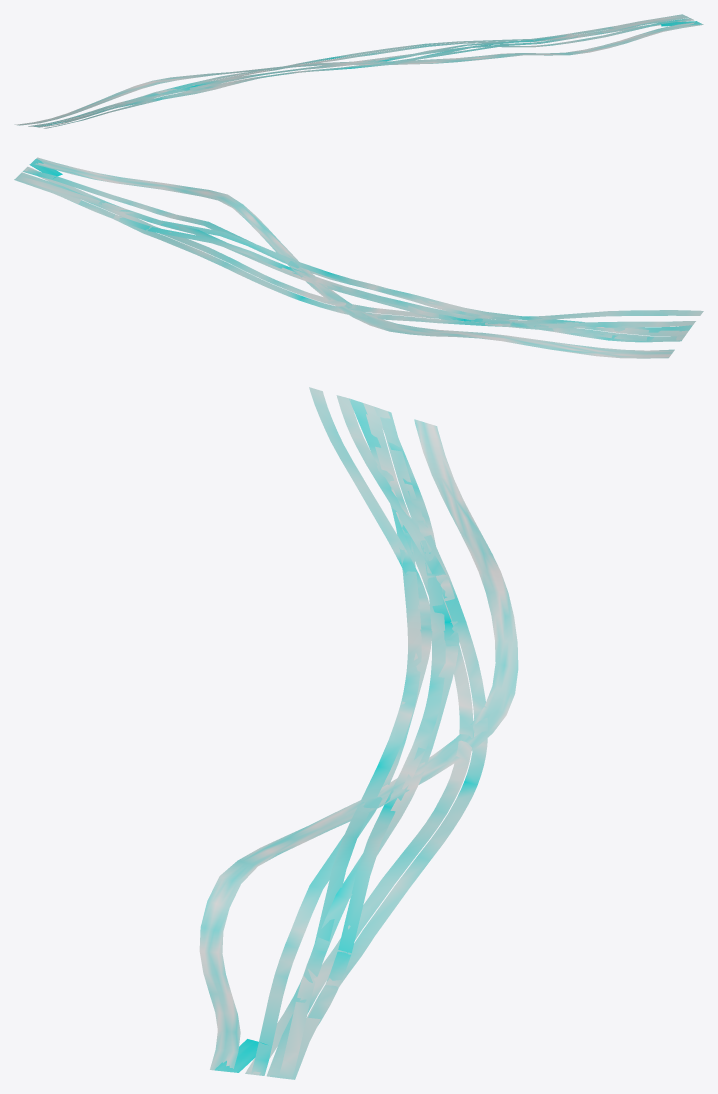
The model's file is cell_175_112.fbx.
The picture shows the model from 3 angles, top to bottom: view 1: azimuth 30°, elevation 25°; view 2: azimuth 150°, elevation 25°; view 3: azimuth 270°, elevation 25°; orthographic projection. The views are drawn at different scales.
Visible parts, largest first — view 1: SpaceCenter_Long3_GenerateRoad_Sand_TireTracks_Narrow_Mesh_., SpaceCenter_Long3_GenerateRoad_Sand_TireTracks_Width_Mesh_x.; view 2: SpaceCenter_Long3_GenerateRoad_Sand_TireTracks_Narrow_Mesh_., SpaceCenter_Long3_GenerateRoad_Sand_TireTracks_Width_Mesh_x.; view 3: SpaceCenter_Long3_GenerateRoad_Sand_TireTracks_Narrow_Mesh_., SpaceCenter_Long3_GenerateRoad_Sand_TireTracks_Width_Mesh_x..
Part boxes in pixels (x1=…): SpaceCenter_Long3_GenerateRoad_Sand_TireTracks_Narrow_Mesh_.: x1=28, y1=14, x2=694, y2=128; SpaceCenter_Long3_GenerateRoad_Sand_TireTracks_Width_Mesh_x.: x1=14, y1=21, x2=703, y2=125; SpaceCenter_Long3_GenerateRoad_Sand_TireTracks_Narrow_Mesh_.: x1=14, y1=166, x2=703, y2=342; SpaceCenter_Long3_GenerateRoad_Sand_TireTracks_Width_Mesh_x.: x1=29, y1=157, x2=674, y2=358; SpaceCenter_Long3_GenerateRoad_Sand_TireTracks_Narrow_Mesh_.: x1=245, y1=387, x2=487, y2=1079; SpaceCenter_Long3_GenerateRoad_Sand_TireTracks_Width_Mesh_x.: x1=199, y1=419, x2=518, y2=1072.
Size of the model in its own units: 64 by 4 by 13.95.
